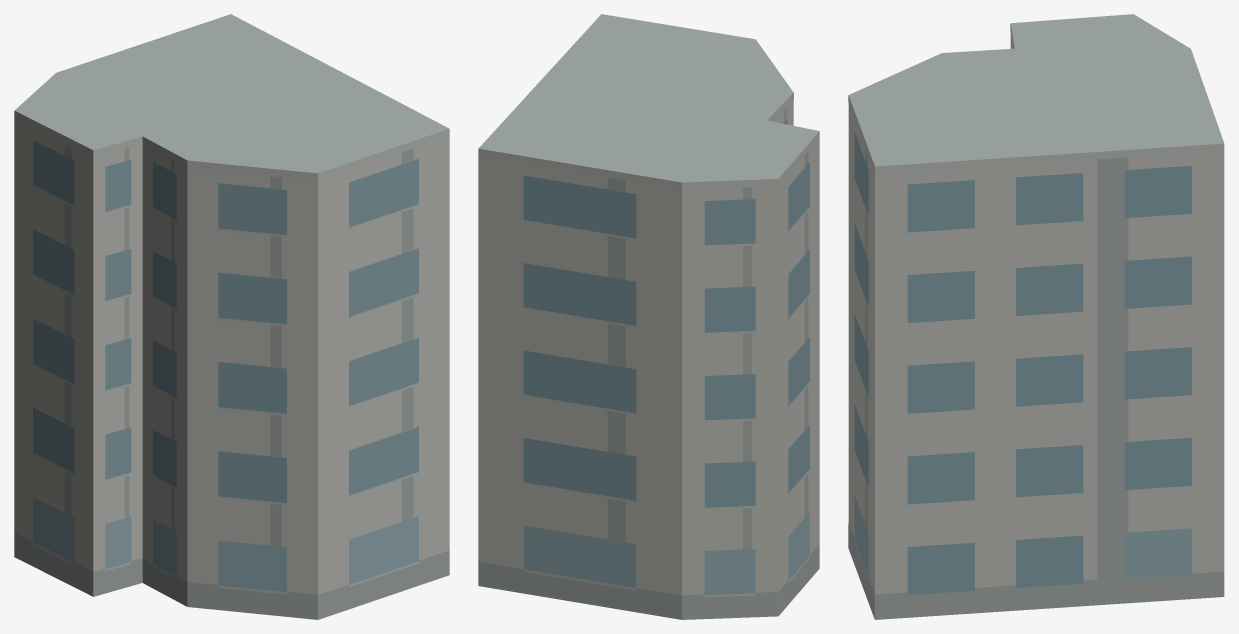
The model's file is survey-upis-32747252.glb.
3 views of the same model, side by side, from view 1: azimuth 30°, elevation 25°; view 2: azimuth 150°, elevation 25°; view 3: azimuth 270°, elevation 25° (orthographic). The views are drawn at different scales.
Visible parts, largest first — view 1: survey-upis-32747252.tmp; view 2: survey-upis-32747252.tmp; view 3: survey-upis-32747252.tmp.
Part boxes in pixels (x1=…): survey-upis-32747252.tmp: x1=14, y1=14, x2=449, y2=619; survey-upis-32747252.tmp: x1=478, y1=14, x2=819, y2=619; survey-upis-32747252.tmp: x1=848, y1=14, x2=1224, y2=619.
Bounding box in the file's own units: 10.55 × 14.6 × 10.98.
